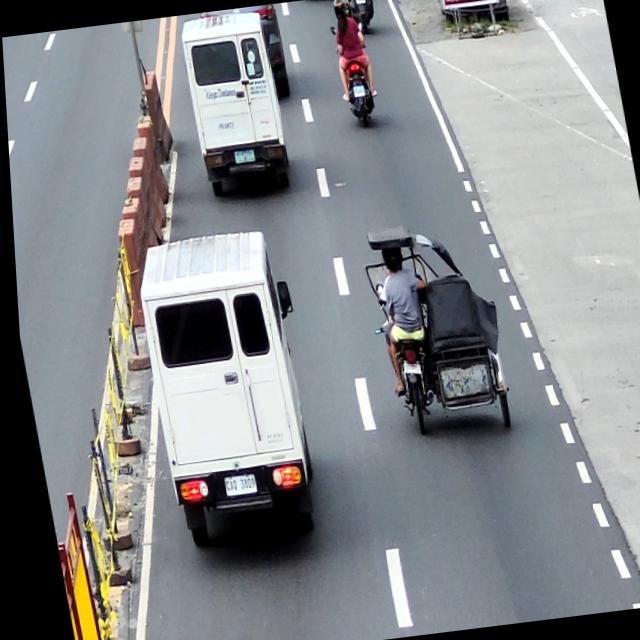Car: (124, 228, 327, 552), (177, 10, 295, 198), (199, 3, 291, 105)
License-Plate: (217, 473, 252, 497), (231, 148, 254, 164), (397, 361, 417, 376), (351, 85, 365, 98), (355, 0, 365, 3)
Motorcycle: (329, 20, 379, 132), (345, 0, 378, 35)
Tricycle: (360, 216, 511, 441)
